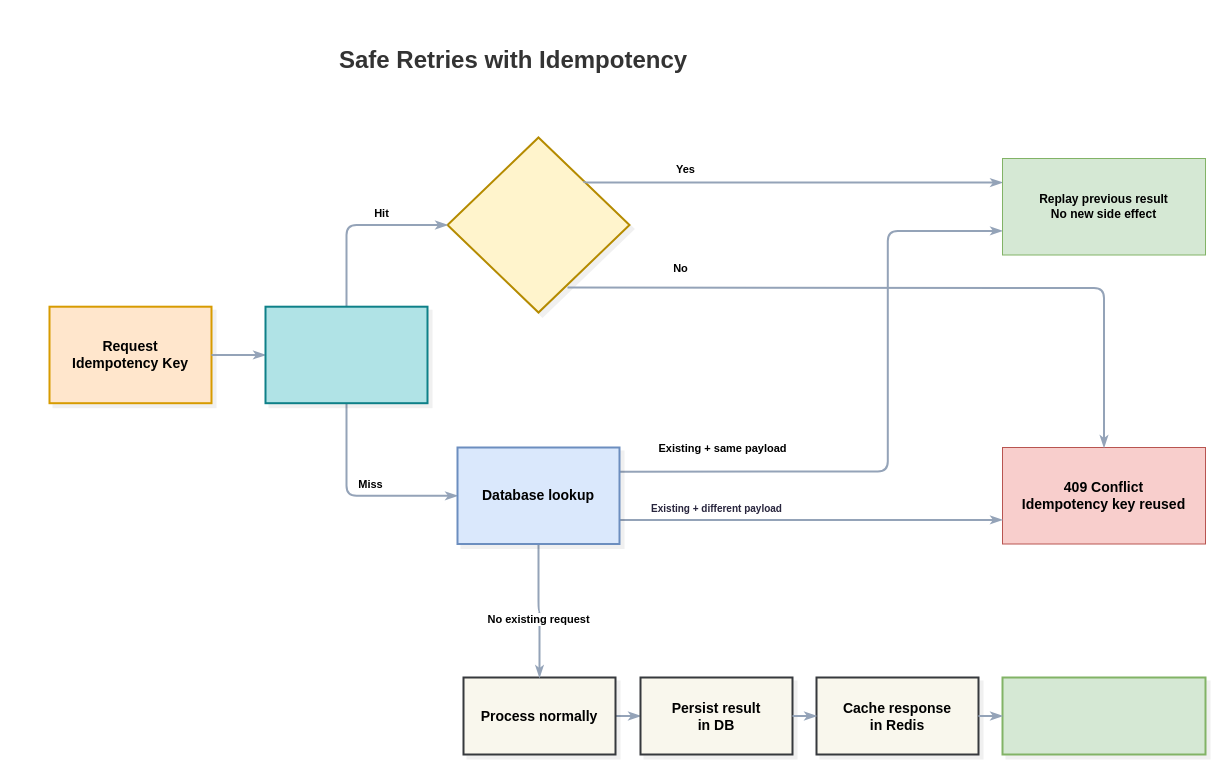
Image size: 1227x776. Some labels were removed from this diagram. The shapes that lost their labels are listed below. From the top down, each one's centre as x and y in pixels, then its label:
At point (540, 226): "Same payload?".
At point (348, 356): "Redis lookup".
At point (1105, 717): "Return result".
